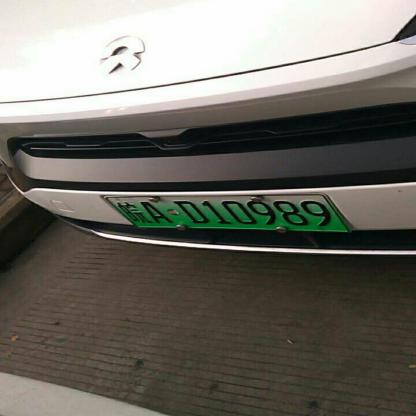lp: (104, 194, 350, 231)
